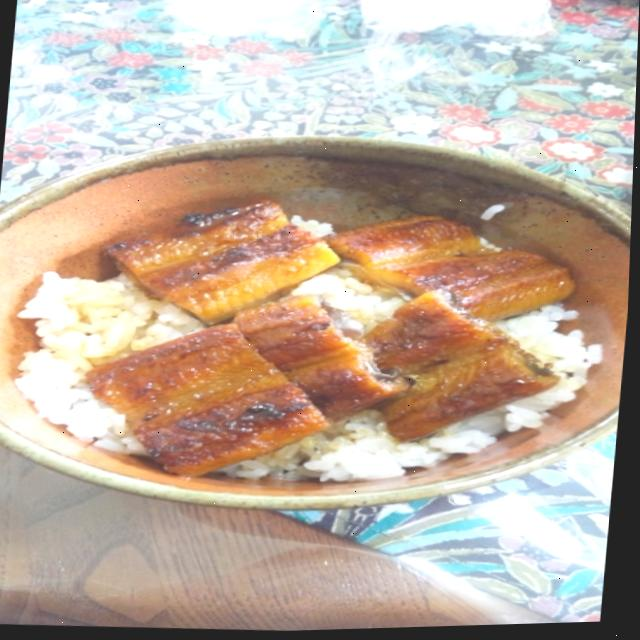熟制海鲜: (42, 149, 604, 517)
